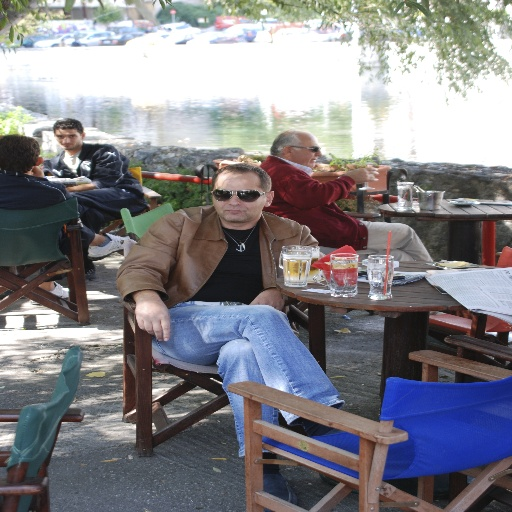hand: (129, 287, 170, 344), (247, 289, 286, 311), (342, 165, 379, 184), (23, 166, 43, 178), (89, 234, 107, 246)
